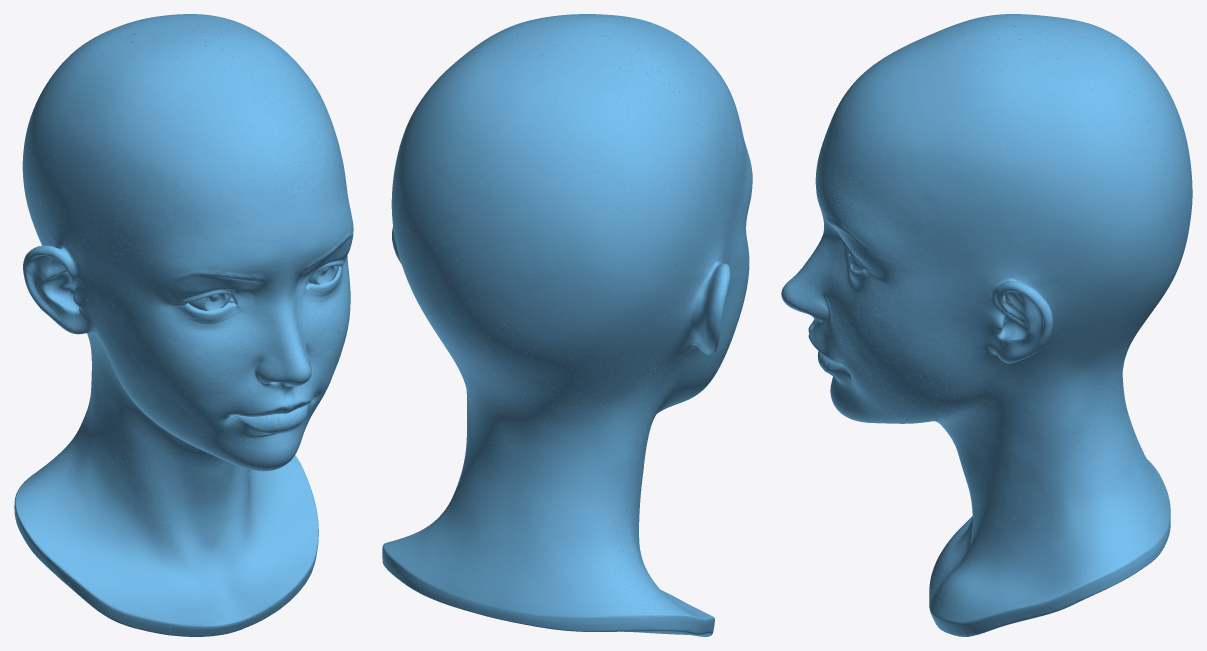
File: 石膏头像_女中青年_03_opt.glb
3 renders of one model, left to right at view 1: azimuth 30°, elevation 25°; view 2: azimuth 150°, elevation 25°; view 3: azimuth 270°, elevation 25°, orthographic. The views are drawn at different scales.
Parts seen in each view (by area): view 1: material_0_6, material_0_2, material_0_12, material_0_4, material_0_10, material_0_16, material_0_14, material_0_8, material_0, material_0_1, material_0_13, material_0_7 (+8 smaller); view 2: material_0_6, material_0_4, material_0_12, material_0_8, material_0_2, material_0_14, material_0_16, material_0_10, material_0, material_0_1, material_0_18, material_0_13 (+8 smaller); view 3: material_0_4, material_0_6, material_0_14, material_0_16, material_0_12, material_0_10, material_0_8, material_0_2, material_0, material_0_1, material_0_17, material_0_5 (+8 smaller).
Boxes of the visible parts, <box> form: material_0_6: <box>19,16,352,632</box>; material_0_2: <box>14,15,346,627</box>; material_0_12: <box>22,14,353,636</box>; material_0_4: <box>23,17,349,630</box>; material_0_10: <box>24,18,351,622</box>; material_0_16: <box>15,14,352,636</box>; material_0_14: <box>17,17,349,625</box>; material_0_8: <box>23,30,352,630</box>; material_0: <box>15,14,353,636</box>; material_0_1: <box>17,15,347,633</box>; material_0_13: <box>34,14,351,632</box>; material_0_7: <box>20,19,352,631</box>; material_0_6: <box>383,14,752,613</box>; material_0_4: <box>393,53,752,631</box>; material_0_12: <box>391,14,752,612</box>; material_0_8: <box>383,16,739,622</box>; material_0_2: <box>382,31,751,636</box>; material_0_14: <box>386,14,750,629</box>; material_0_16: <box>384,14,752,633</box>; material_0_10: <box>387,16,747,631</box>; material_0: <box>382,14,751,634</box>; material_0_1: <box>385,15,749,636</box>; material_0_18: <box>387,15,750,632</box>; material_0_13: <box>392,14,752,613</box>; material_0_4: <box>804,18,1180,613</box>; material_0_6: <box>784,16,1192,628</box>; material_0_14: <box>783,14,1192,636</box>; material_0_16: <box>783,14,1192,636</box>; material_0_12: <box>804,15,1190,636</box>; material_0_10: <box>813,14,1170,636</box>; material_0_8: <box>808,30,1192,631</box>; material_0_2: <box>781,15,1188,634</box>; material_0: <box>782,14,1192,635</box>; material_0_1: <box>783,15,1189,632</box>; material_0_17: <box>793,14,1189,631</box>; material_0_5: <box>808,21,1178,612</box>.
Size of the model in its own units: 0.1669 by 0.3 by 0.1924.
